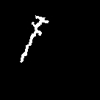double_crochet: (20, 16, 48, 61)
